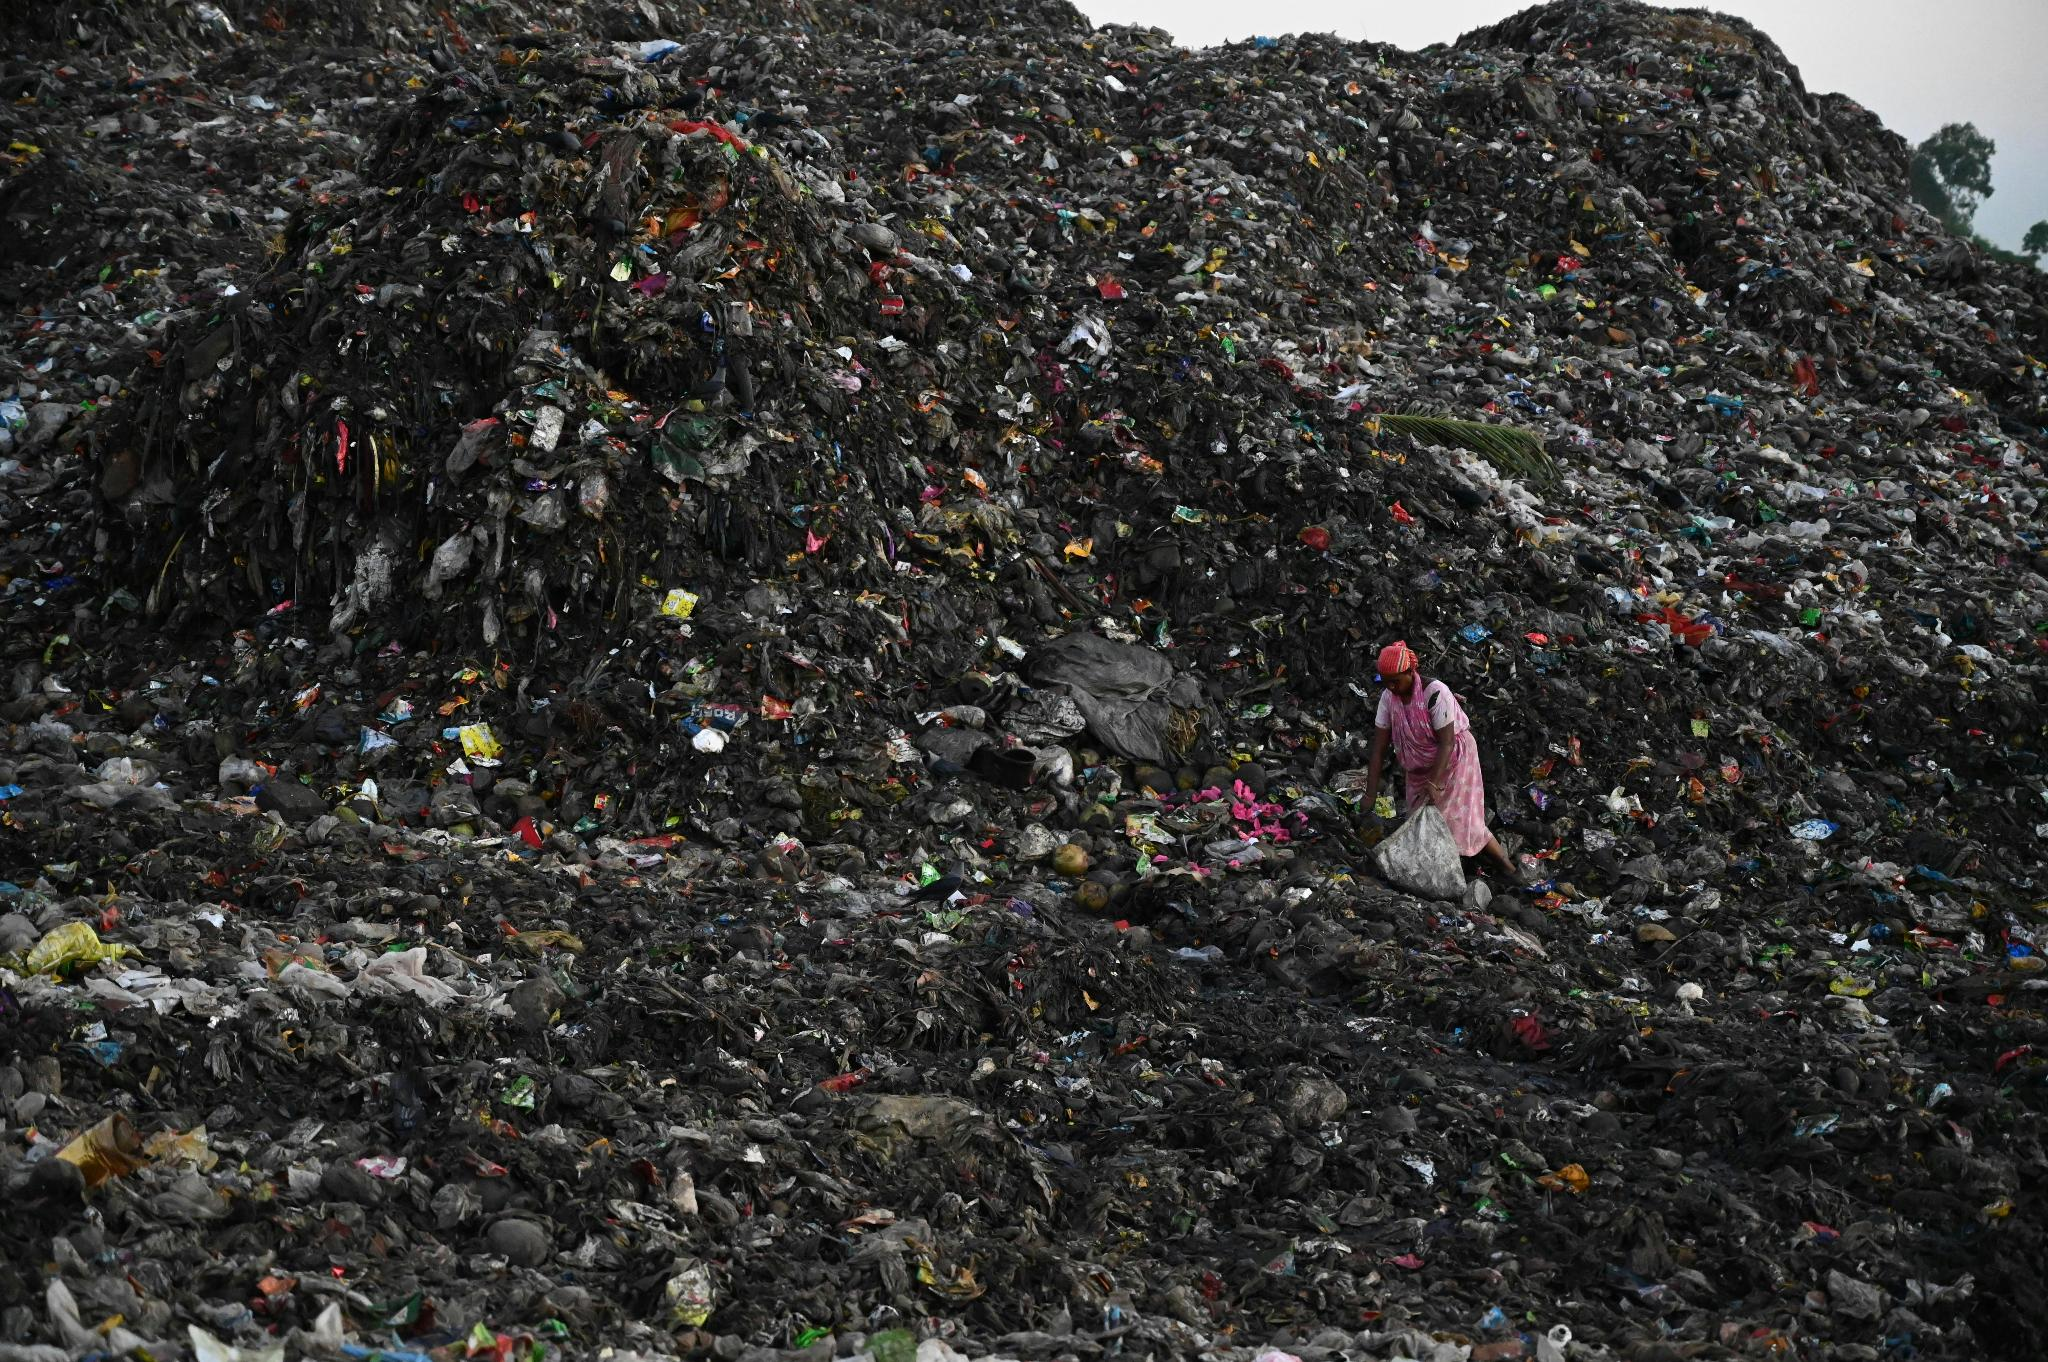Trash: (14, 23, 2031, 1362)
